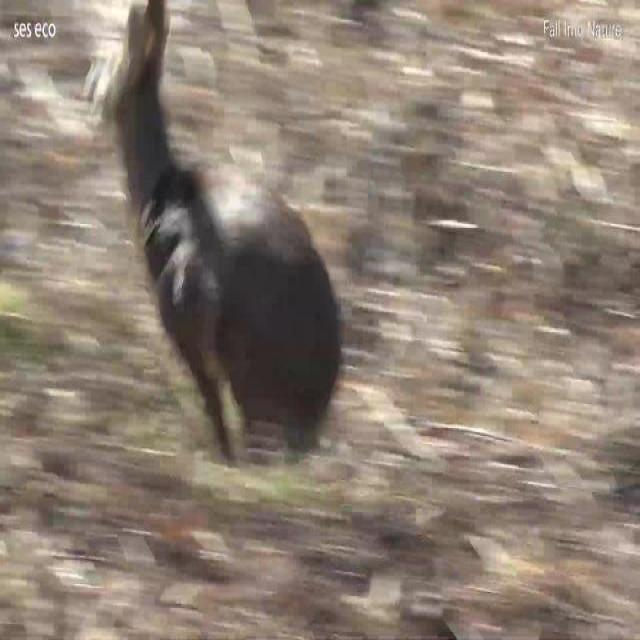deer: (86, 0, 343, 461)
